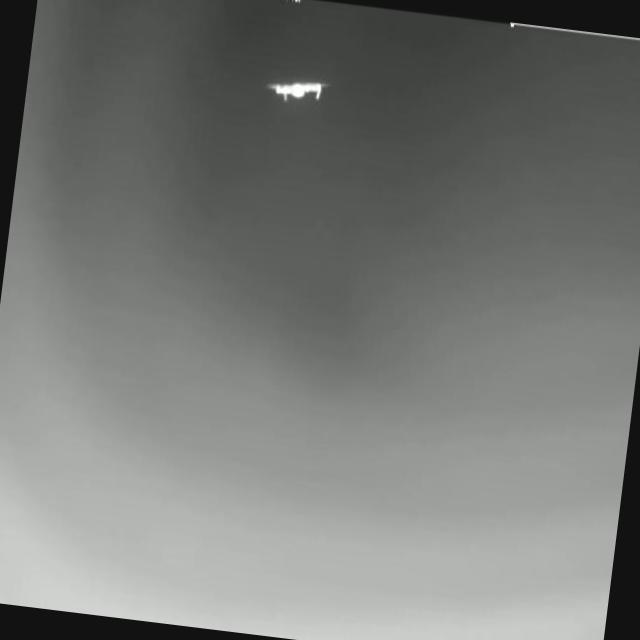DRONE: (265, 78, 333, 103)
